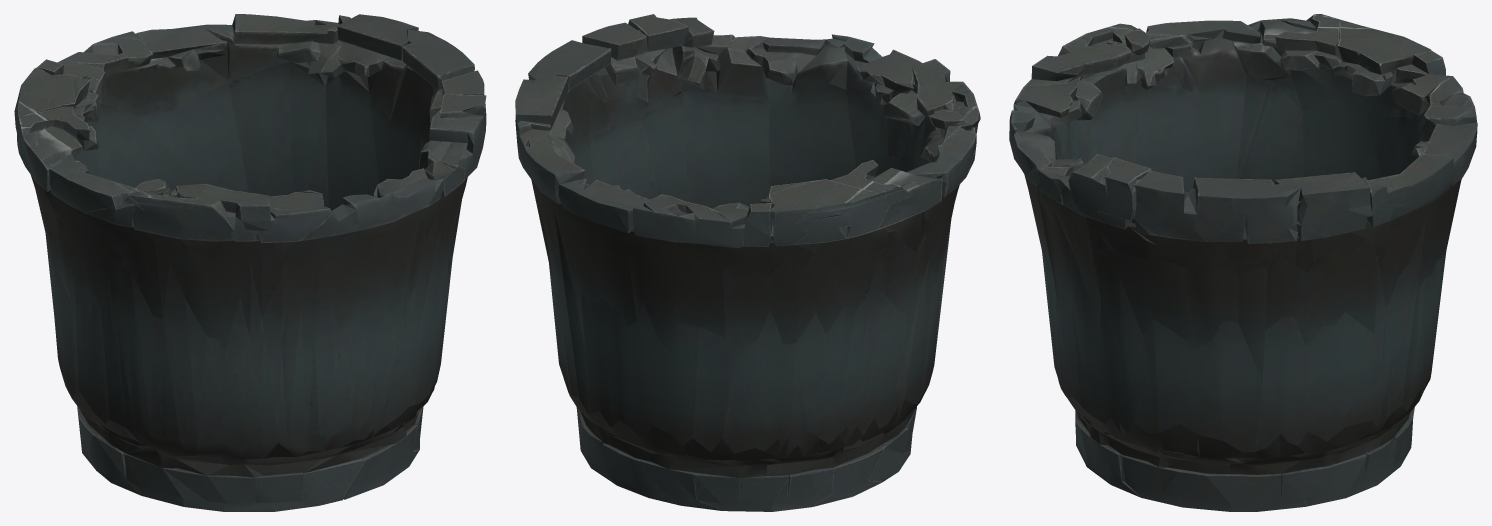
File: road_sinkhole_crater.glb
3 renders of one model, left to right at view 1: azimuth 30°, elevation 25°; view 2: azimuth 150°, elevation 25°; view 3: azimuth 270°, elevation 25°, orthographic. The views are drawn at different scales.
Bounding box in the file's own units: 1.89 × 1.53 × 1.89.
1 material, 1 textured.
